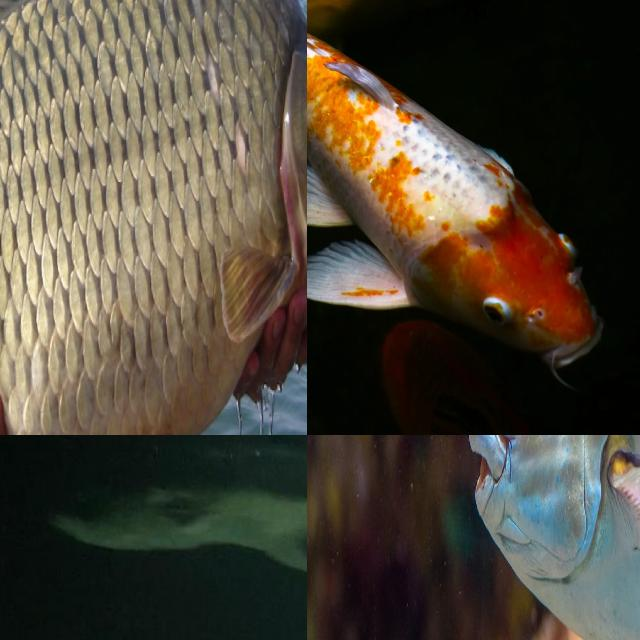fish: (0, 0, 307, 435), (431, 0, 608, 373), (428, 435, 640, 640)
